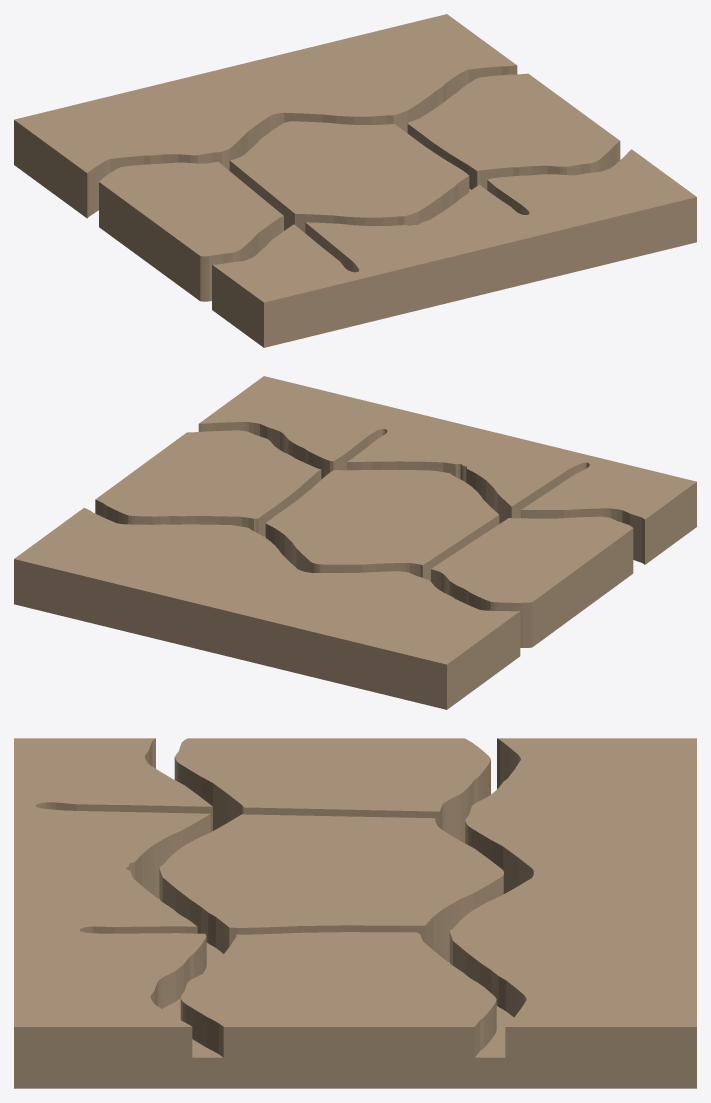
File: trench.glb
The picture shows the model from 3 angles, top to bottom: view 1: azimuth 30°, elevation 25°; view 2: azimuth 150°, elevation 25°; view 3: azimuth 270°, elevation 25°; orthographic projection. The views are drawn at different scales.
Parts seen in each view (by area): view 1: Mesh_Mesh_head_geo.001_lambert2SG.001; view 2: Mesh_Mesh_head_geo.001_lambert2SG.001; view 3: Mesh_Mesh_head_geo.001_lambert2SG.001.
Part boxes in pixels (x1=…): Mesh_Mesh_head_geo.001_lambert2SG.001: x1=14, y1=14, x2=696, y2=347; Mesh_Mesh_head_geo.001_lambert2SG.001: x1=14, y1=376, x2=696, y2=709; Mesh_Mesh_head_geo.001_lambert2SG.001: x1=14, y1=738, x2=696, y2=1088.
Bounding box in the file's own units: 200 × 20 × 200.
